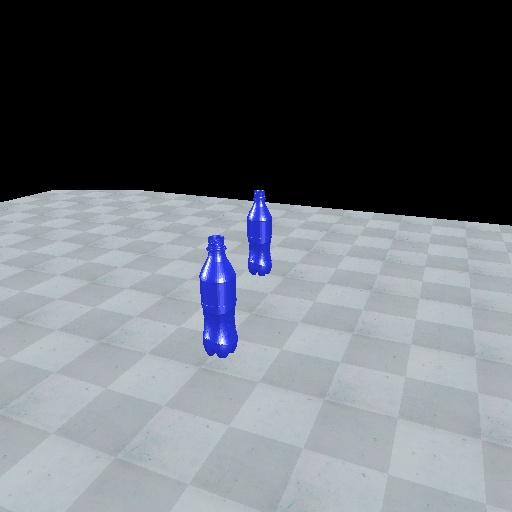bottle: (196, 232, 241, 360), (245, 186, 275, 280)
